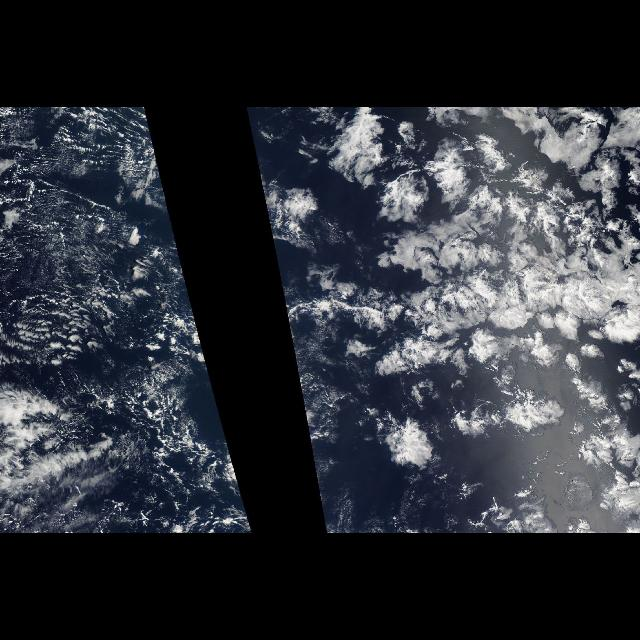Flower: (305, 112, 635, 512)
Sugar: (5, 108, 165, 372)
